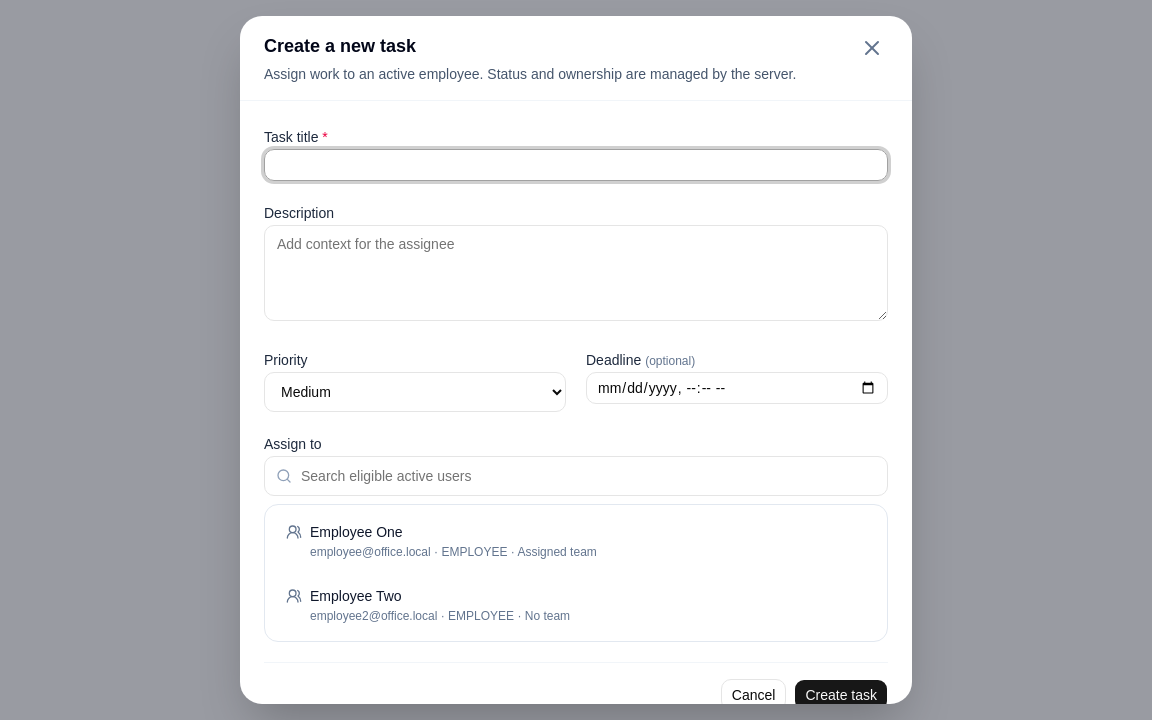
Test: task mutation components › validates a required title and assignee before creating
Click the button "Create task" at (841, 695), box [794,679,888,711]
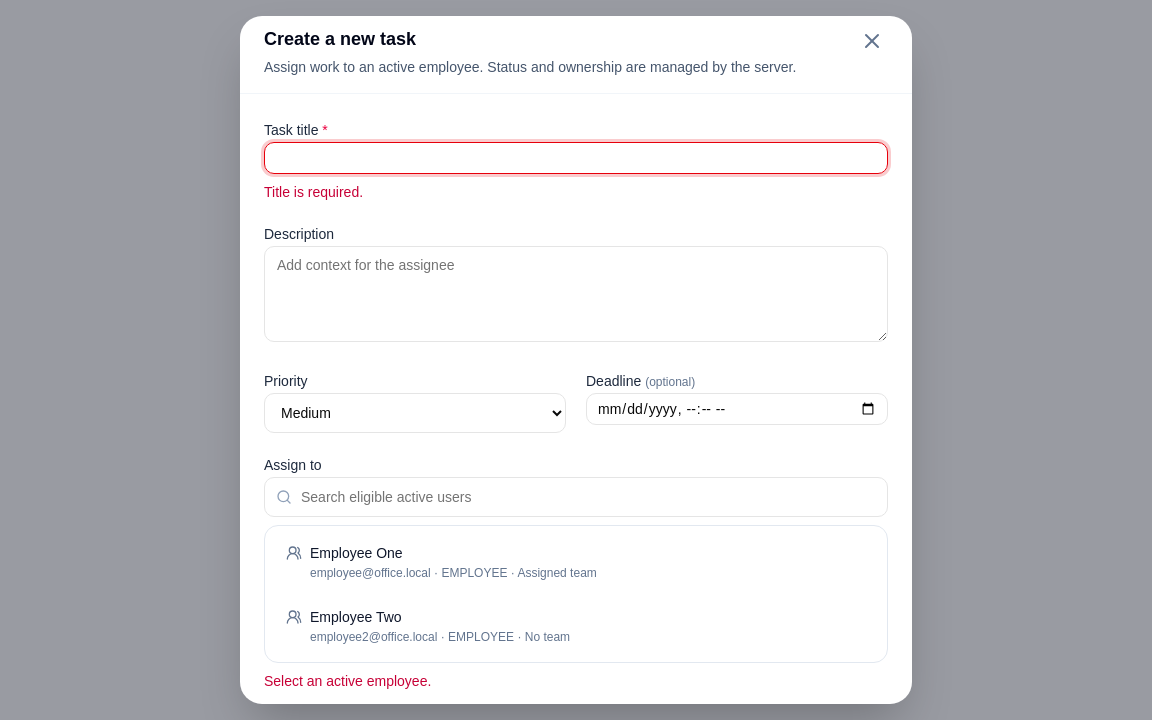
Expected: the text "Title is required." is shown, [264,184,363,200]
Expected: the text "Select an active employee." is shown, [264,673,431,689]
